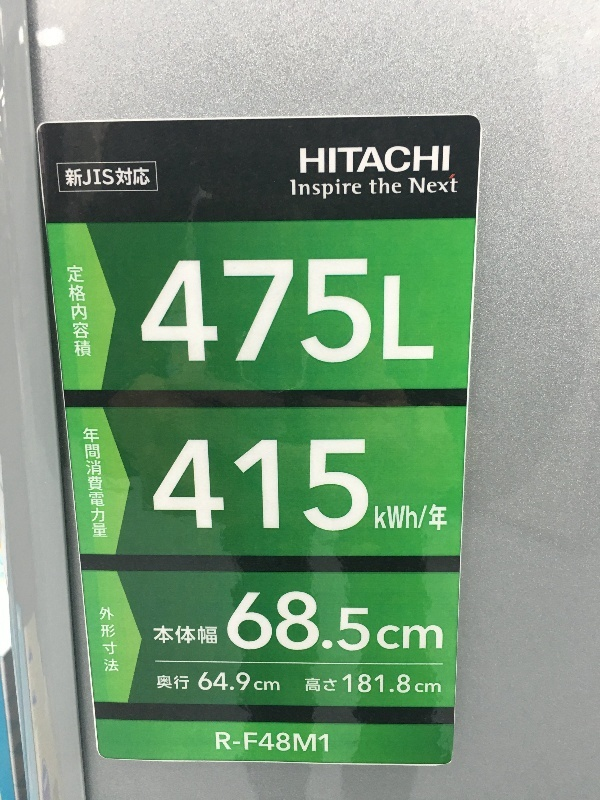text: (145, 259, 160, 365), (161, 259, 176, 365), (177, 259, 192, 365), (193, 259, 208, 365), (209, 259, 224, 365), (225, 259, 240, 365), (241, 259, 256, 365), (257, 259, 272, 365), (273, 259, 288, 365), (289, 259, 304, 365), (305, 259, 320, 365), (321, 259, 336, 365), (337, 259, 352, 365), (353, 259, 368, 365), (369, 259, 384, 365), (385, 259, 400, 365), (401, 259, 416, 365), (417, 259, 432, 365), (353, 440, 369, 532), (83, 427, 96, 538), (161, 440, 176, 532), (177, 440, 192, 532), (193, 440, 208, 532), (209, 440, 224, 532), (225, 440, 240, 532), (241, 440, 256, 532), (257, 440, 272, 532), (273, 440, 288, 532), (289, 440, 304, 532), (305, 440, 320, 532), (321, 440, 336, 532), (337, 440, 352, 532), (97, 427, 108, 538), (67, 266, 80, 357), (81, 266, 92, 357), (241, 592, 256, 652), (257, 592, 272, 652), (273, 592, 288, 652), (289, 592, 304, 652), (305, 592, 320, 652), (321, 592, 336, 652), (337, 592, 352, 652), (353, 592, 368, 652), (369, 592, 384, 652), (385, 592, 400, 652), (401, 592, 416, 652), (417, 592, 432, 652), (99, 607, 112, 673), (229, 592, 240, 652), (433, 592, 444, 652), (153, 440, 160, 532), (113, 607, 120, 673), (305, 145, 320, 175), (321, 145, 336, 175), (337, 145, 352, 175), (353, 145, 368, 175), (369, 145, 384, 175), (385, 145, 400, 175), (401, 145, 416, 175), (417, 145, 432, 175), (433, 145, 448, 175), (433, 504, 448, 531), (385, 506, 400, 530), (401, 506, 416, 530), (141, 259, 144, 365), (305, 179, 320, 200), (321, 179, 336, 200), (337, 179, 352, 200), (209, 672, 224, 692), (225, 672, 240, 692), (241, 672, 256, 692), (257, 672, 272, 692), (225, 733, 240, 753), (241, 733, 256, 753), (257, 733, 272, 753), (273, 733, 288, 753), (289, 733, 304, 753), (305, 733, 320, 753), (290, 179, 304, 200), (353, 674, 368, 693), (369, 674, 384, 693), (385, 674, 400, 693), (401, 674, 416, 693), (417, 674, 432, 693), (161, 626, 176, 645), (177, 626, 192, 645), (193, 626, 208, 645), (65, 168, 80, 187), (129, 168, 144, 187), (417, 177, 432, 194), (433, 177, 448, 194), (115, 168, 128, 187), (369, 178, 384, 194), (385, 178, 400, 194), (417, 506, 427, 530), (321, 677, 337, 692), (97, 169, 112, 185), (305, 677, 320, 692), (161, 675, 176, 690), (82, 169, 96, 185), (375, 506, 384, 530), (353, 179, 362, 200), (199, 672, 208, 692), (177, 675, 189, 690), (343, 674, 352, 693), (433, 674, 442, 693), (216, 733, 224, 753), (321, 733, 329, 753), (449, 177, 458, 194), (209, 626, 217, 645), (273, 672, 280, 692), (408, 177, 416, 194), (153, 626, 160, 645), (433, 259, 434, 365), (145, 168, 150, 187), (301, 145, 304, 175), (449, 145, 451, 175), (430, 504, 432, 531), (157, 675, 160, 690), (81, 168, 83, 187), (113, 169, 115, 185), (401, 178, 402, 194)
